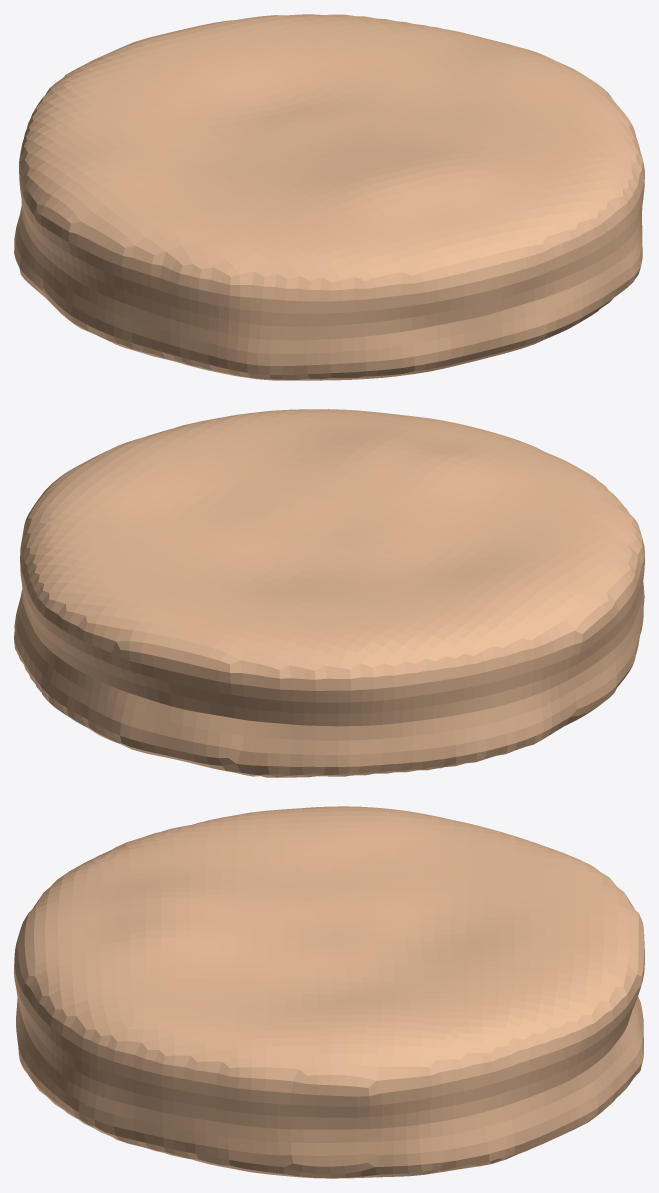
Rendered from Squashed_Marshmello.fbx.
The picture shows the model from 3 angles, top to bottom: view 1: azimuth 30°, elevation 25°; view 2: azimuth 150°, elevation 25°; view 3: azimuth 270°, elevation 25°; orthographic projection.
Visible parts, largest first — view 1: Cylinder; view 2: Cylinder; view 3: Cylinder.
Boxes of the visible parts, bbox=[...] form: Cylinder: bbox=[14, 14, 644, 380]; Cylinder: bbox=[14, 409, 644, 777]; Cylinder: bbox=[14, 806, 644, 1178].
Size of the model in its own units: 207 by 52.18 by 204.
